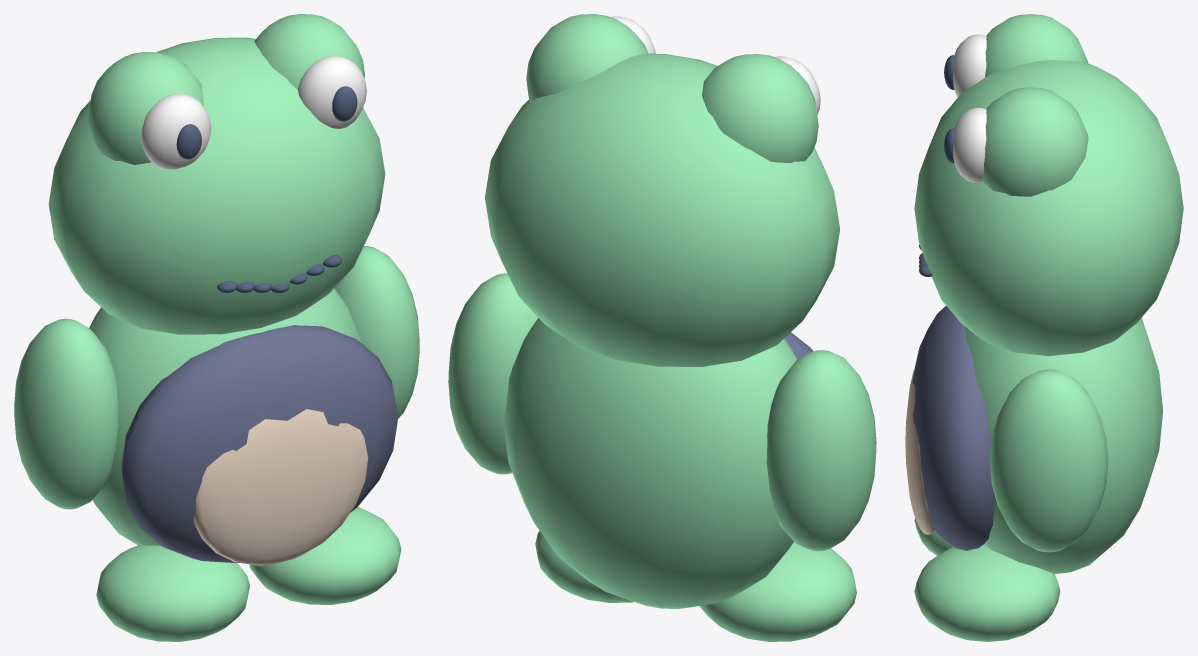
File: hero-frog-0-0.glb
3 renders of one model, left to right at view 1: azimuth 30°, elevation 25°; view 2: azimuth 150°, elevation 25°; view 3: azimuth 270°, elevation 25°, orthographic. The views are drawn at different scales.
Visible parts, largest first — view 1: head, jacket, hand (×2), foot (×2), belly, eye_bulb (×2), body, eye_white (×2), eye_pupil (×2); view 2: head, body, hand (×2), eye_bulb (×2), foot (×2); view 3: head, body, hand, jacket, eye_bulb (×2), foot (×2), eye_white (×2), belly.
Boxes of the visible parts, x1,y1,x2,y2 form: head: (48, 37, 385, 334); jacket: (121, 325, 397, 562); hand (×2): (14, 246, 419, 509); foot (×2): (96, 506, 401, 641); belly: (193, 409, 368, 565); eye_bulb (×2): (88, 14, 364, 164); body: (89, 288, 361, 545); eye_white (×2): (141, 56, 366, 169); eye_pupil (×2): (176, 86, 357, 159); head: (485, 53, 839, 366); body: (504, 318, 797, 608); hand (×2): (448, 273, 876, 551); eye_bulb (×2): (526, 14, 818, 162); foot (×2): (535, 531, 856, 641); head: (914, 60, 1183, 355); body: (965, 318, 1162, 574); hand: (989, 369, 1108, 552); jacket: (912, 306, 994, 550); eye_bulb (×2): (982, 14, 1088, 196); foot (×2): (914, 518, 1060, 641); eye_white (×2): (953, 34, 986, 182); belly: (905, 367, 934, 534).
Bounding box in the file's own units: 1.9 × 2.61 × 1.22.
